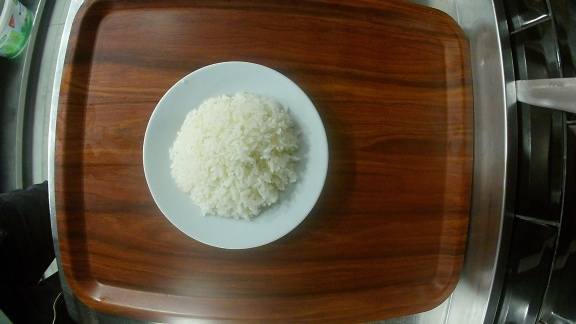pilav: (144, 60, 329, 250)
